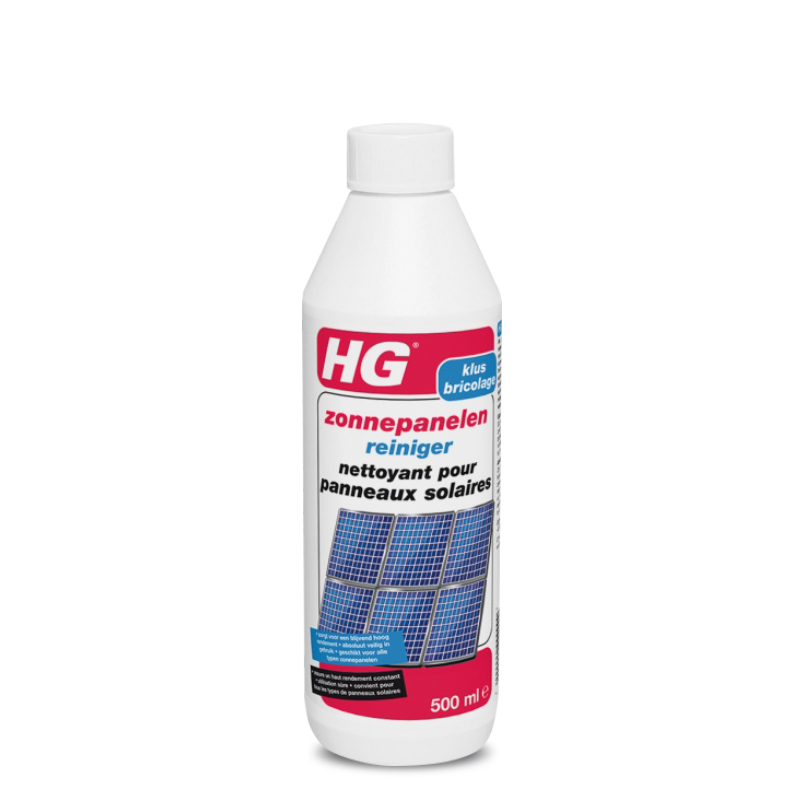Cleaning_solution: (293, 111, 503, 773)
